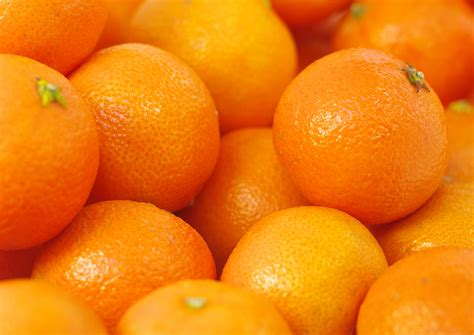orange: (270, 46, 451, 230), (1, 44, 101, 257)
